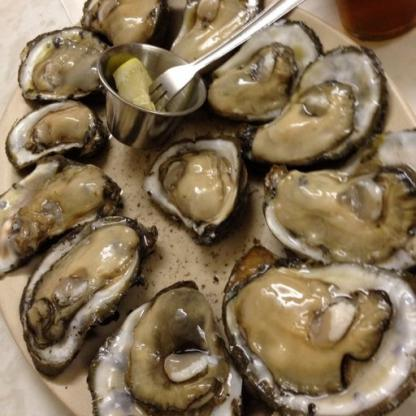oyster: (227, 246, 415, 415), (22, 209, 153, 369), (99, 295, 234, 415), (265, 160, 415, 266), (255, 47, 389, 158), (0, 158, 115, 278), (210, 22, 315, 115), (151, 140, 241, 239), (21, 27, 106, 104), (8, 102, 104, 168), (80, 0, 160, 50)
